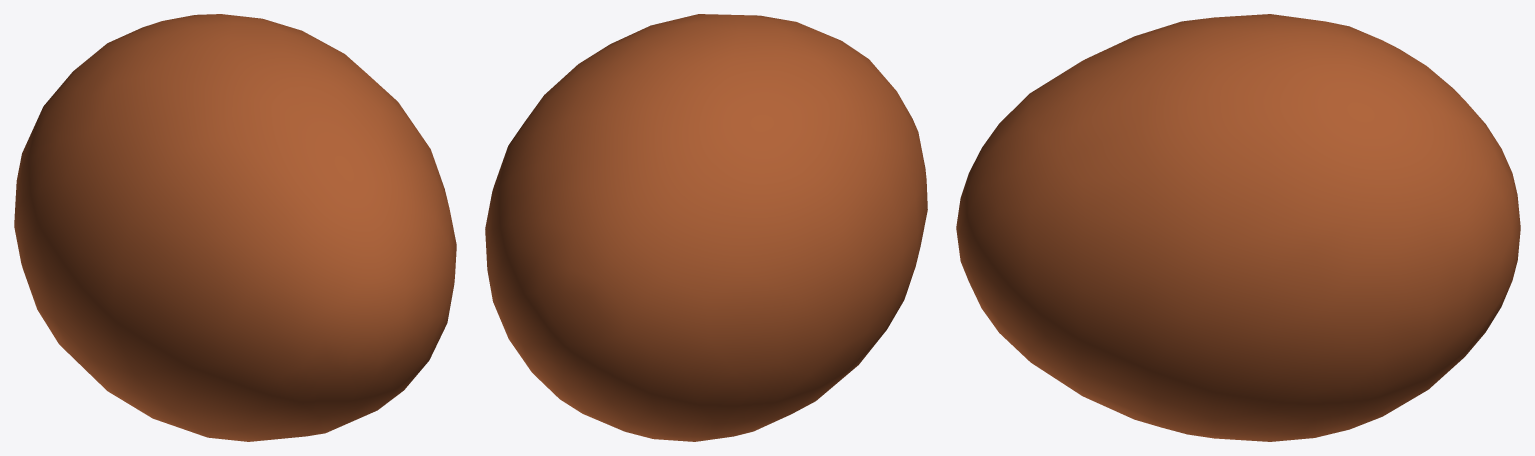
File: MeshEgg_3_0.obj
3 views of the same model, side by side, from view 1: azimuth 30°, elevation 25°; view 2: azimuth 150°, elevation 25°; view 3: azimuth 270°, elevation 25° (orthographic). The views are drawn at different scales.
Parts seen in each view (by area): view 1: Egg_3; view 2: Egg_3; view 3: Egg_3.
Part boxes in pixels (box(x1,y1,x2,y2)): Egg_3: box(14, 14, 456, 441); Egg_3: box(485, 14, 927, 441); Egg_3: box(956, 14, 1520, 441).
Bounding box in the file's own units: 0.0677 × 0.0677 × 0.0894.
